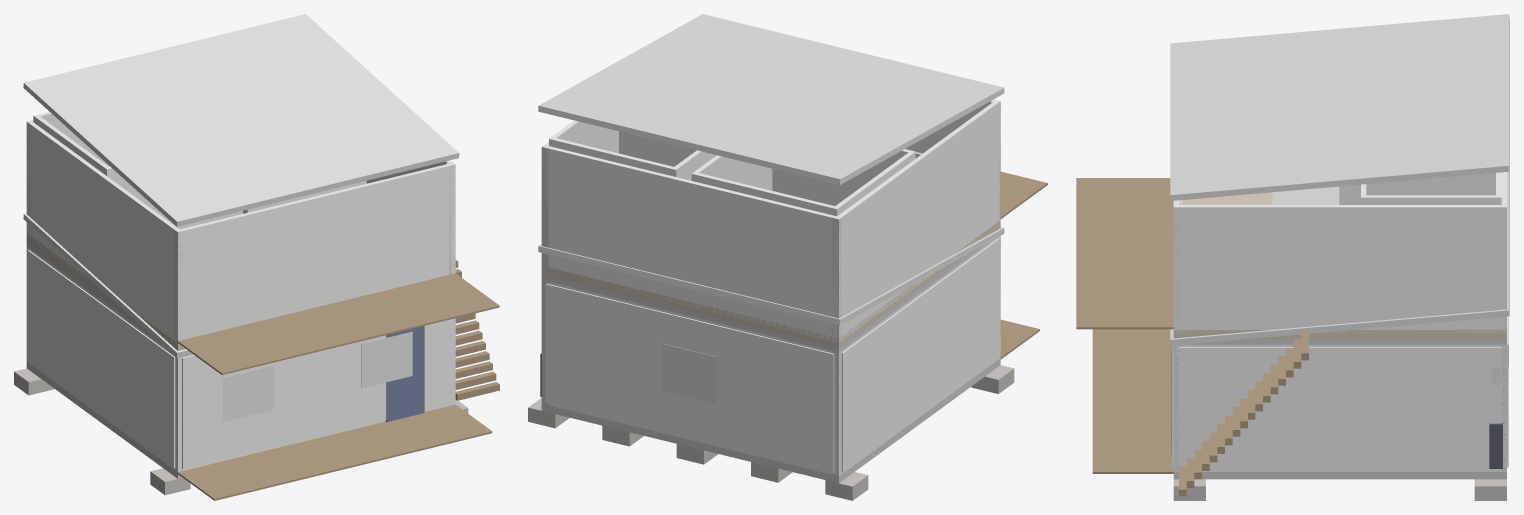
Rendered from Duplex-20-SlopingRoof+FullSolar-LOD0.glb.
3 views of the same model, side by side, from view 1: azimuth 30°, elevation 25°; view 2: azimuth 150°, elevation 25°; view 3: azimuth 270°, elevation 25° (orthographic). The views are drawn at different scales.
Parts seen in each view (by area): view 1: RoofSlopingUpgrade.001, ExteriorShellUpper, ExteriorPanelsStandard, BalconyUpper, BalconyGround, WindowsStandard, StaircaseExternal, ExteriorShell, EntryDoor, BedroomUpper, FoundationBlocks, RoofSlopingUpgrade (+4 smaller); view 2: ExteriorShellUpper, ExteriorPanelsStandard, RoofSlopingUpgrade.001, BedroomUpper, StudyUpper, FloorUpper, FoundationBlocks, VerticalStructure, RoofSlopingUpgrade, BaseFrame, ExteriorShell, WindowsStandard (+3 smaller); view 3: RoofSlopingUpgrade.001, ExteriorShellUpper, ExteriorPanelsStandard, BalconyUpper, BalconyGround, RoofSlopingUpgrade, StaircaseExternal, StudyUpper, FloorUpper, ExteriorShell, BaseFrame, TopFrame (+3 smaller).
Part boxes in pixels (left/top/right/bottom): RoofSlopingUpgrade.001: left=23, top=14, right=459, bottom=226; ExteriorShellUpper: left=26, top=120, right=455, bottom=346; ExteriorPanelsStandard: left=28, top=250, right=452, bottom=469; BalconyUpper: left=178, top=273, right=499, bottom=374; BalconyGround: left=178, top=404, right=492, bottom=500; WindowsStandard: left=222, top=331, right=412, bottom=421; StaircaseExternal: left=455, top=259, right=499, bottom=400; ExteriorShell: left=26, top=246, right=455, bottom=471; EntryDoor: left=385, top=326, right=424, bottom=422; BedroomUpper: left=33, top=112, right=242, bottom=228; FoundationBlocks: left=14, top=368, right=468, bottom=495; RoofSlopingUpgrade: left=23, top=213, right=192, bottom=357; ExteriorShellUpper: left=542, top=99, right=1000, bottom=342; ExteriorPanelsStandard: left=545, top=238, right=999, bottom=473; RoofSlopingUpgrade.001: left=538, top=14, right=1004, bottom=184; BedroomUpper: left=691, top=149, right=915, bottom=216; StudyUpper: left=549, top=120, right=716, bottom=180; FloorUpper: left=544, top=221, right=999, bottom=346; FoundationBlocks: left=528, top=365, right=1014, bottom=500; VerticalStructure: left=541, top=101, right=1000, bottom=475; RoofSlopingUpgrade: left=538, top=227, right=1004, bottom=325; BaseFrame: left=541, top=358, right=1000, bottom=483; ExteriorShell: left=548, top=236, right=1000, bottom=475; WindowsStandard: left=662, top=343, right=716, bottom=404; RoofSlopingUpgrade.001: left=1170, top=14, right=1509, bottom=200; ExteriorShellUpper: left=1173, top=172, right=1506, bottom=334; ExteriorPanelsStandard: left=1172, top=316, right=1508, bottom=470; BalconyUpper: left=1076, top=178, right=1173, bottom=329; BalconyGround: left=1092, top=329, right=1173, bottom=473; RoofSlopingUpgrade: left=1170, top=171, right=1509, bottom=345; StaircaseExternal: left=1179, top=330, right=1308, bottom=496; StudyUpper: left=1361, top=172, right=1501, bottom=204; FloorUpper: left=1173, top=192, right=1506, bottom=339; ExteriorShell: left=1173, top=344, right=1506, bottom=471; BaseFrame: left=1173, top=472, right=1506, bottom=479; TopFrame: left=1185, top=339, right=1506, bottom=344.
Bounding box in the file's own units: 7.94 × 6.72 × 8.01.
